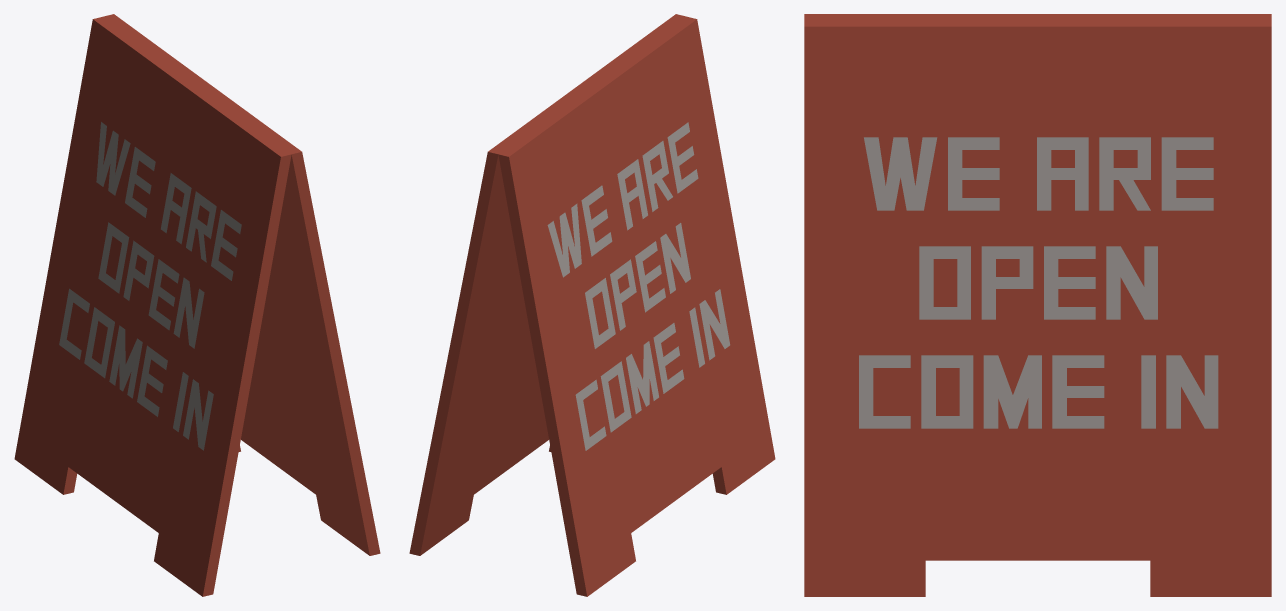
Rendered from AdBoardCafe2.fbx.
3 renders of one model, left to right at view 1: azimuth 30°, elevation 25°; view 2: azimuth 150°, elevation 25°; view 3: azimuth 270°, elevation 25°, orthographic. The views are drawn at different scales.
Visible parts, largest first — view 1: AdBoardCafe2; view 2: AdBoardCafe2; view 3: AdBoardCafe2.
Boxes of the visible parts, <box> form: AdBoardCafe2: <box>14,14,380,596</box>; AdBoardCafe2: <box>409,14,775,596</box>; AdBoardCafe2: <box>804,14,1271,596</box>.
Bounding box in the file's own units: 0.525 × 1.19 × 0.9625.
